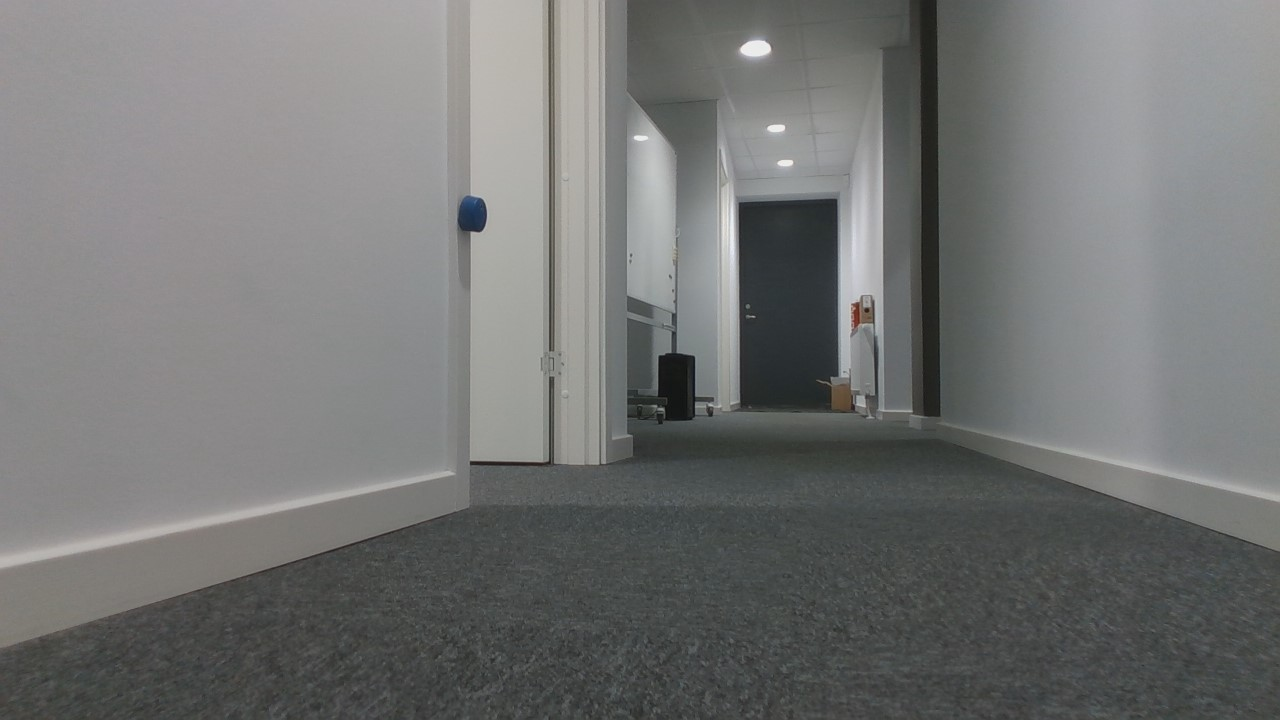alfa: (457, 194, 490, 235)
